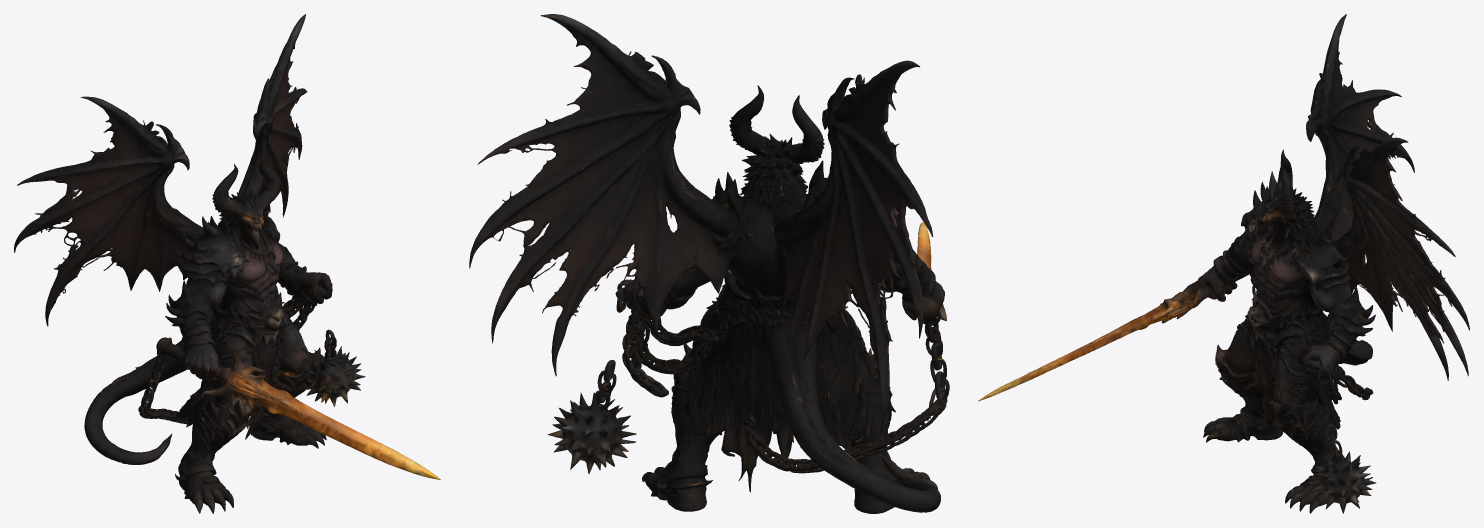
File: balor.glb
The picture shows the model from 3 angles, left to right: view 1: azimuth 30°, elevation 25°; view 2: azimuth 150°, elevation 25°; view 3: azimuth 270°, elevation 25°; orthographic projection. The views are drawn at different scales.
Visible parts, largest first — view 1: material; view 2: material; view 3: material.
Boxes of the visible parts, bbox=[...] form: material: bbox=[14, 14, 440, 513]; material: bbox=[469, 14, 949, 513]; material: bbox=[978, 14, 1469, 513].
Bounding box in the file's own units: 0.6931 × 0.798 × 0.9177.
Materials: 1 (1 with a texture image).
